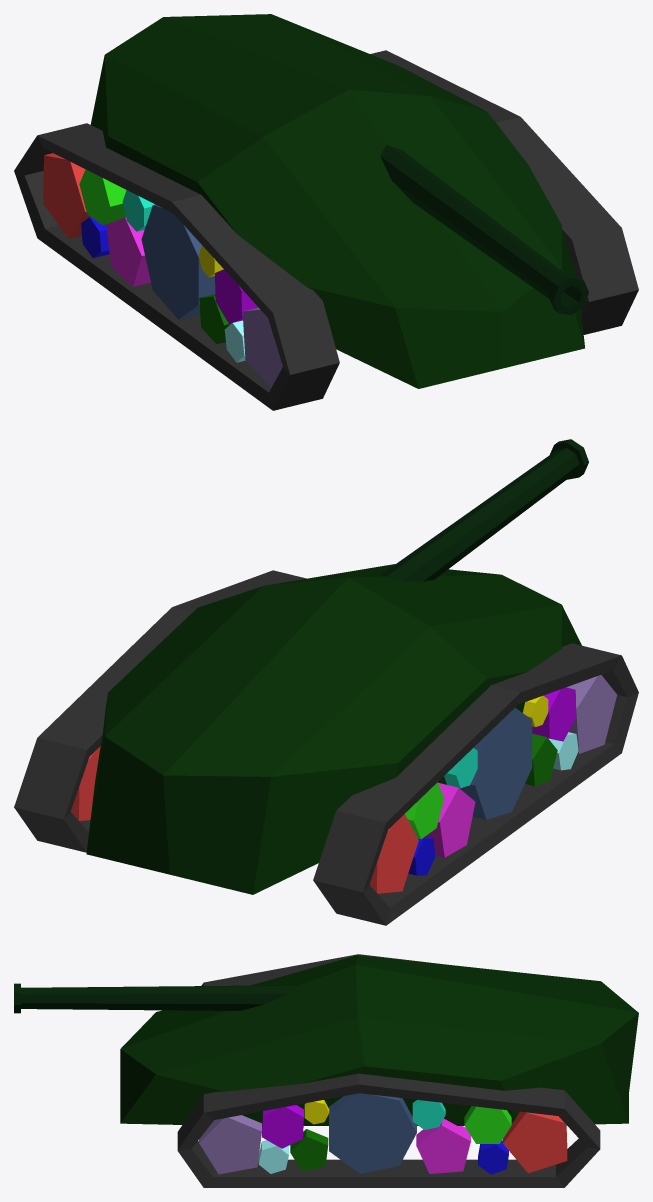
File: tank.fbx
The picture shows the model from 3 angles, top to bottom: view 1: azimuth 30°, elevation 25°; view 2: azimuth 150°, elevation 25°; view 3: azimuth 270°, elevation 25°; orthographic projection. The views are drawn at different scales.
Parts seen in each view (by area): view 1: Plane, Circle.015, Circle.006; view 2: Plane, Circle.015, Circle.006; view 3: Plane, Circle.015, Circle.006.
Part boxes in pixels (x1=…): Plane: x1=90, y1=14, x2=584, y2=388; Circle.015: x1=14, y1=50, x2=638, y2=410; Circle.006: x1=380, y1=144, x2=588, y2=315; Plane: x1=86, y1=564, x2=581, y2=894; Circle.015: x1=14, y1=570, x2=638, y2=925; Circle.006: x1=380, y1=439, x2=588, y2=581; Plane: x1=120, y1=955, x2=638, y2=1125; Circle.015: x1=177, y1=954, x2=600, y2=1187; Circle.006: x1=14, y1=983, x2=296, y2=1013.
Size of the model in its own units: 196 by 110 by 396.
